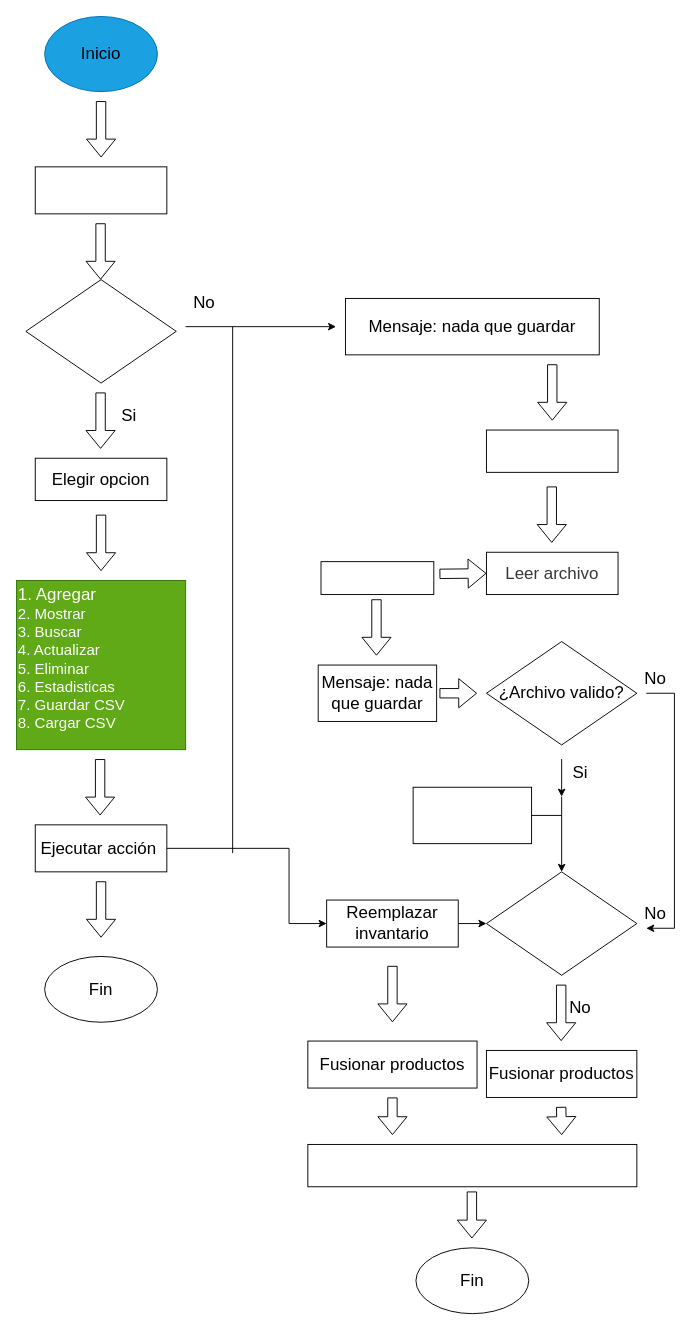
The diagram is 700 pixels wide and 1330 high, and some of its shapes have lost their labels. The shapes that lost their labels are listed below. From the top down, each one's centre as x and y in pixels, then its label:
At pixel 100 190: "Mostrar Menú".
At pixel 100 331: "¿Opción = 9?".
At pixel 552 450: "Cargar CSV".
At pixel 377 578: "Pedir ruta".
At pixel 472 815: "Mensaje: error".
At pixel 561 923: "¿Sobrescribir?".
At pixel 472 1165: "Volver al menú".
